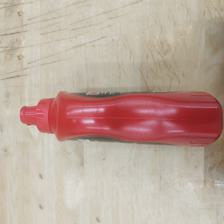Tuong: (18, 89, 224, 147)
